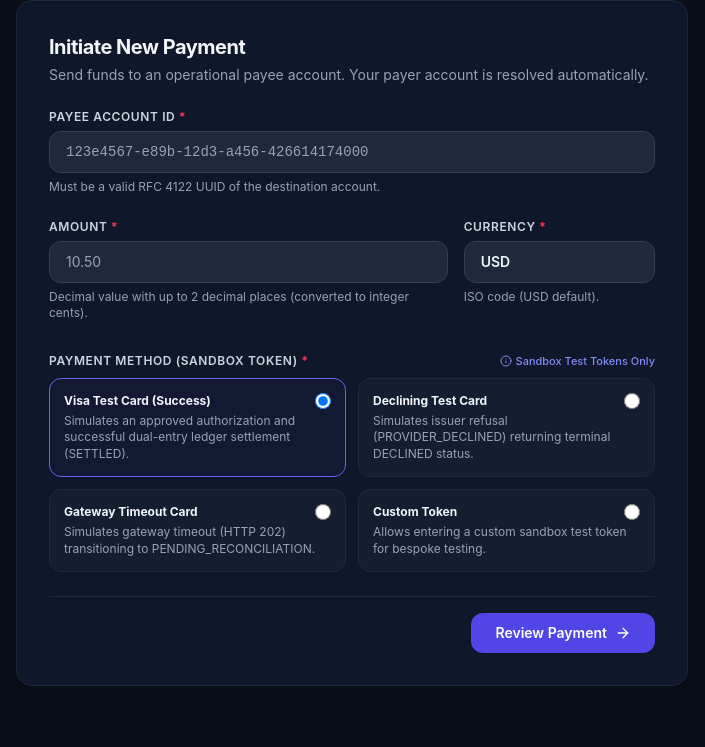
Test: PaymentForm Component › validates client-side inputs when submitting invalid/empty form
Step 1. Click the button "Review Payment" → (563, 633), box [472, 613, 655, 653]
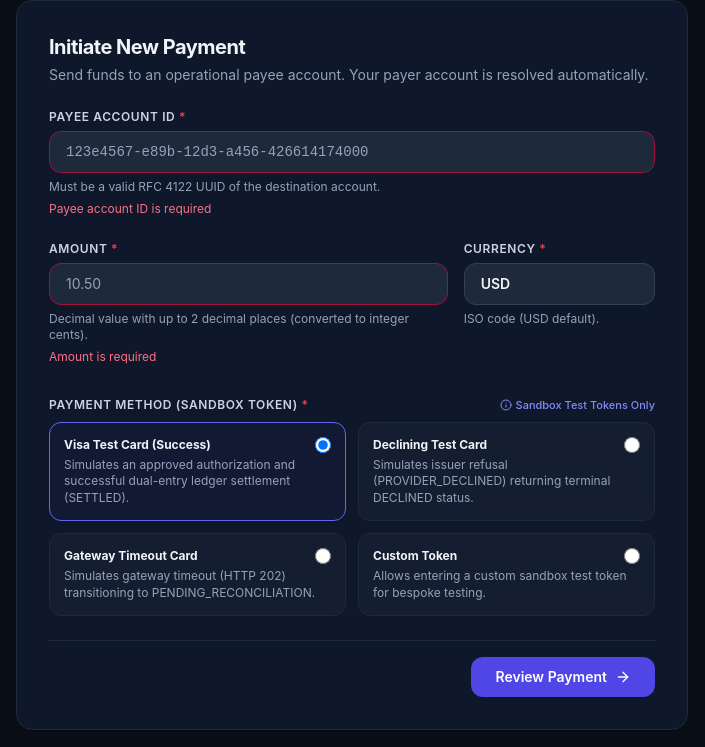
Now the text "Payee account ID is required" is shown, box [49, 201, 211, 216]
Now the text "Amount is required" is shown, box [49, 349, 156, 364]
